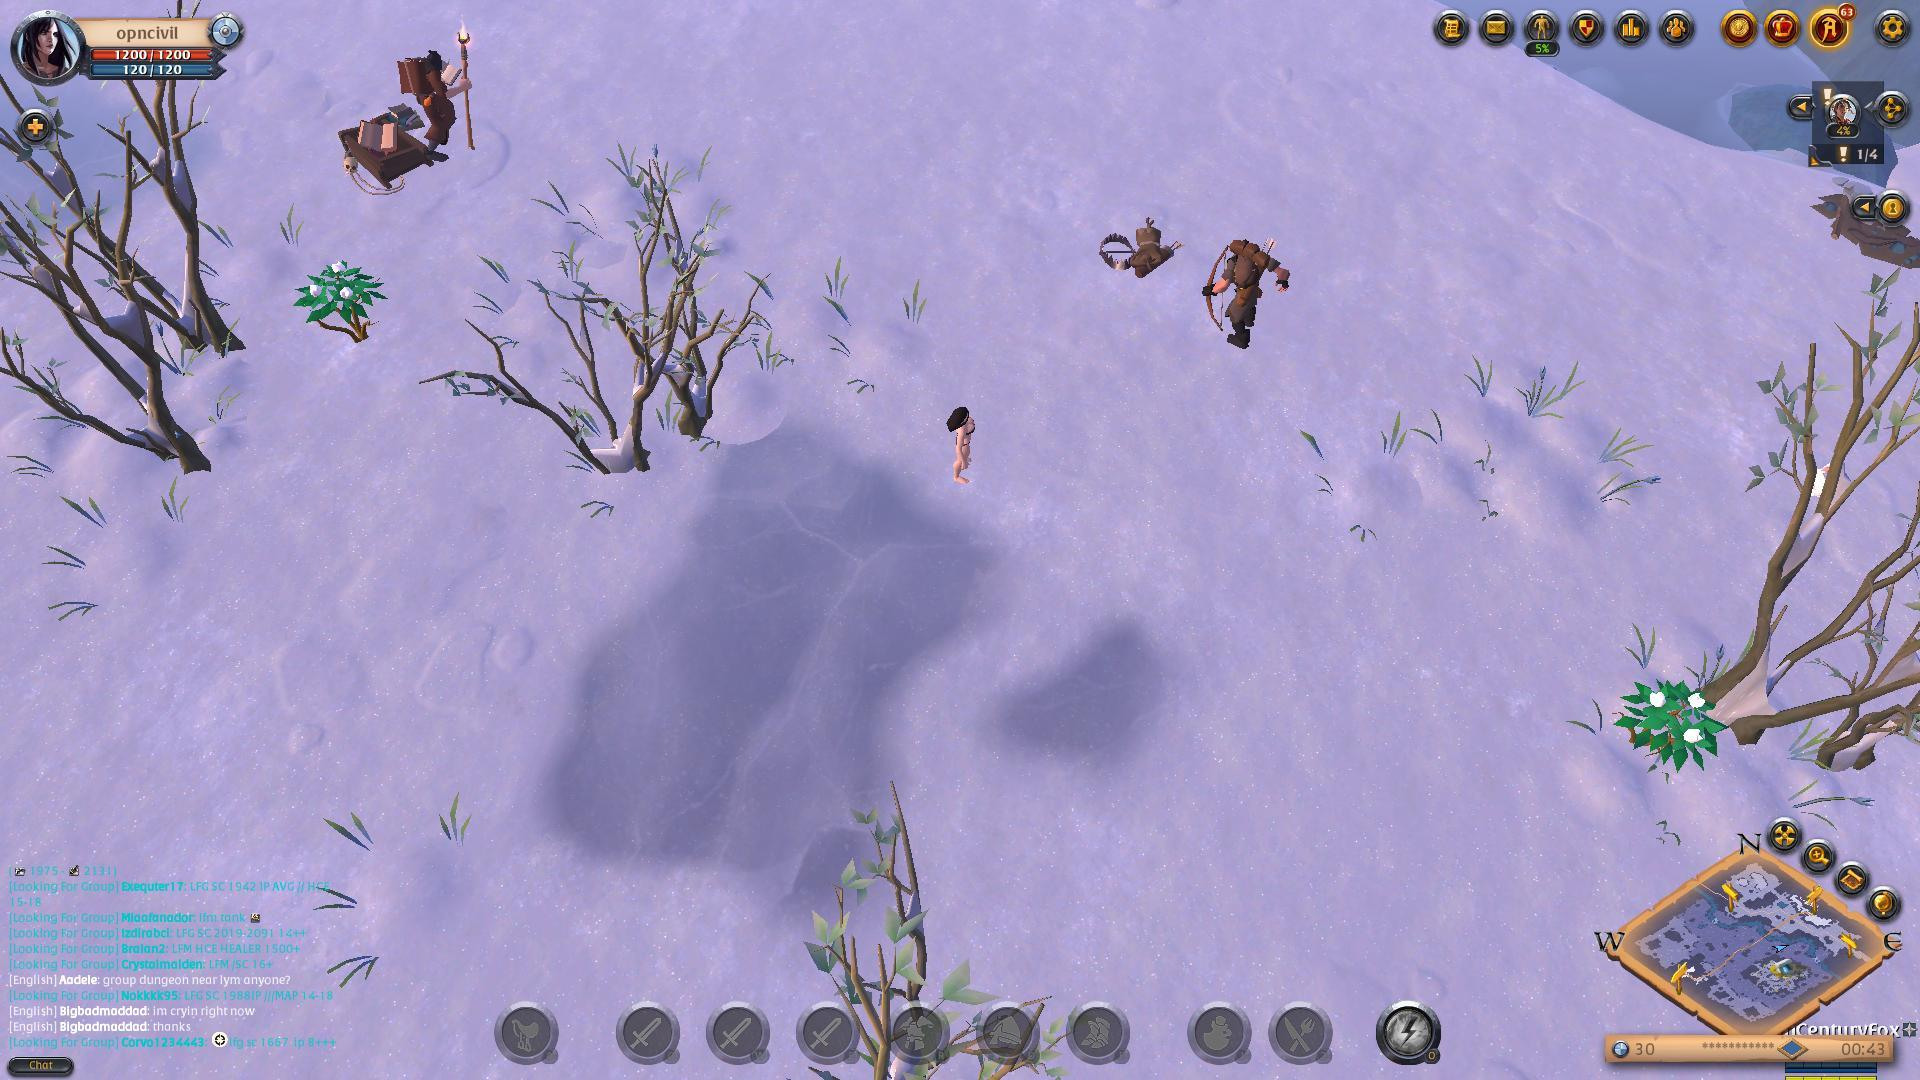flax: (1609, 666, 1737, 775), (293, 251, 388, 353)
mob: (384, 25, 485, 156), (1199, 222, 1291, 360)
